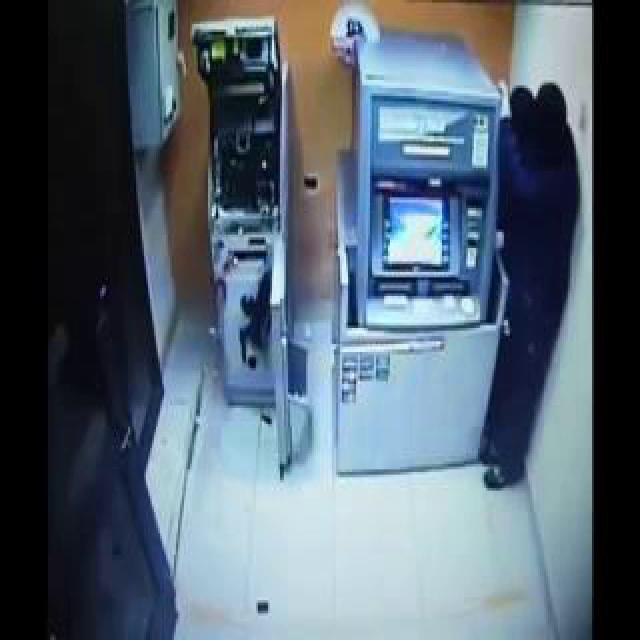burglary: (328, 0, 640, 436)
